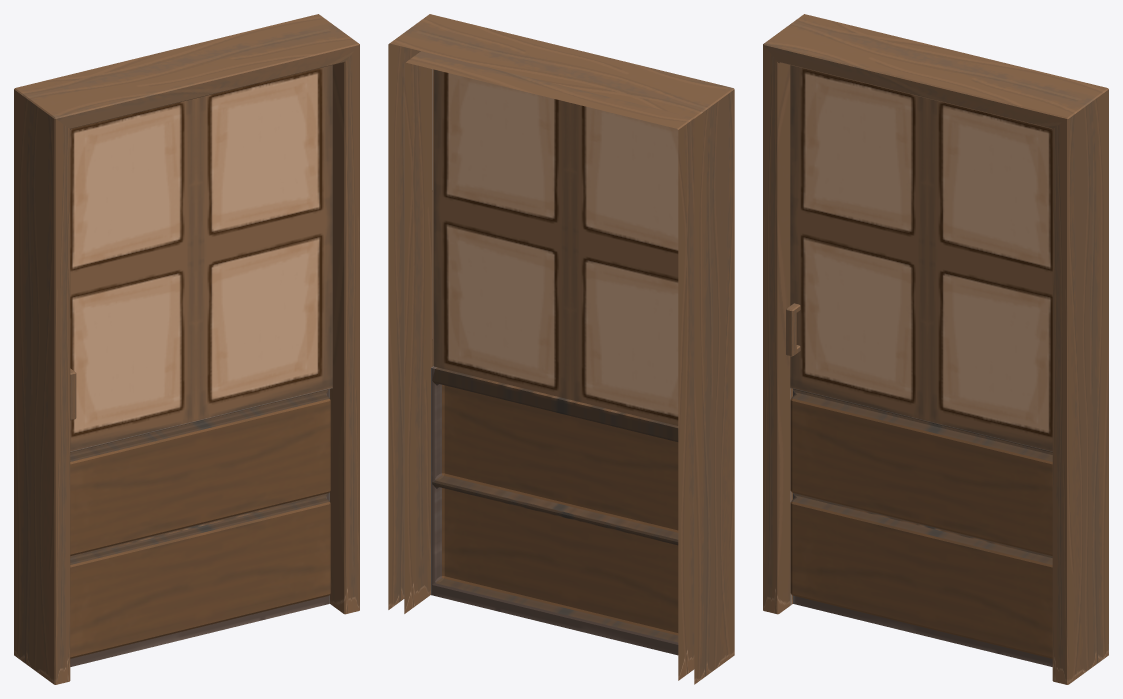
The model's file is porta03-casa-rico.fbx.
3 renders of one model, left to right at view 1: azimuth 30°, elevation 25°; view 2: azimuth 150°, elevation 25°; view 3: azimuth 330°, elevation 25°, orthographic.
Visible parts, largest first — view 1: Porta_Rico_03; view 2: Porta_Rico_03; view 3: Porta_Rico_03.
Boxes of the visible parts, left/top/right/bottom form: Porta_Rico_03: left=14, top=14, right=359, bottom=684; Porta_Rico_03: left=388, top=14, right=734, bottom=684; Porta_Rico_03: left=763, top=14, right=1108, bottom=684.
Bounding box in the file's own units: 112 × 198 × 25.87.
